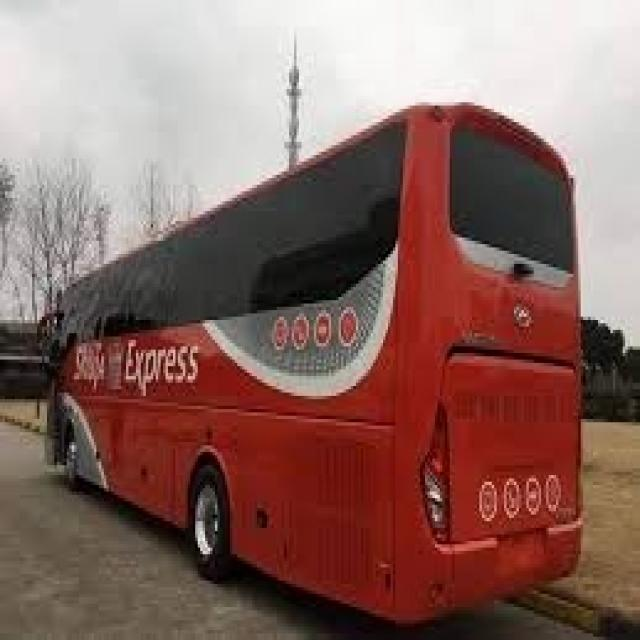bus: (37, 69, 589, 633)
